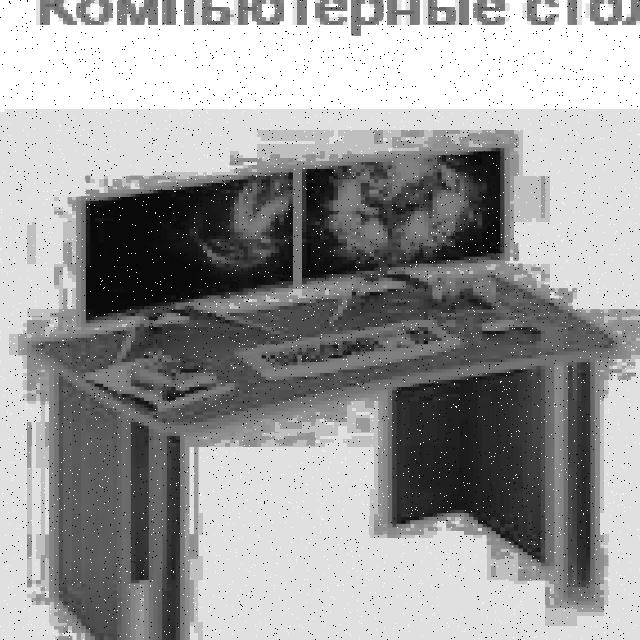table: (27, 267, 618, 640)
